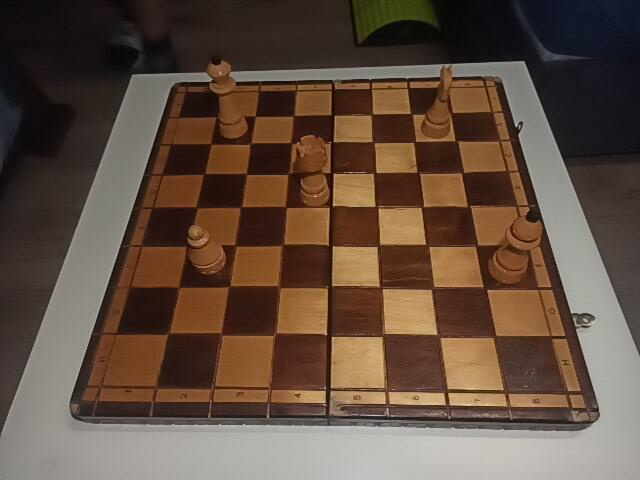W-Bishop: (488, 207, 542, 285)
W-Knight: (422, 65, 453, 138)
W-Pawn: (185, 224, 226, 275)
W-Queen: (207, 56, 248, 138)
W-Rook: (295, 135, 329, 206)
